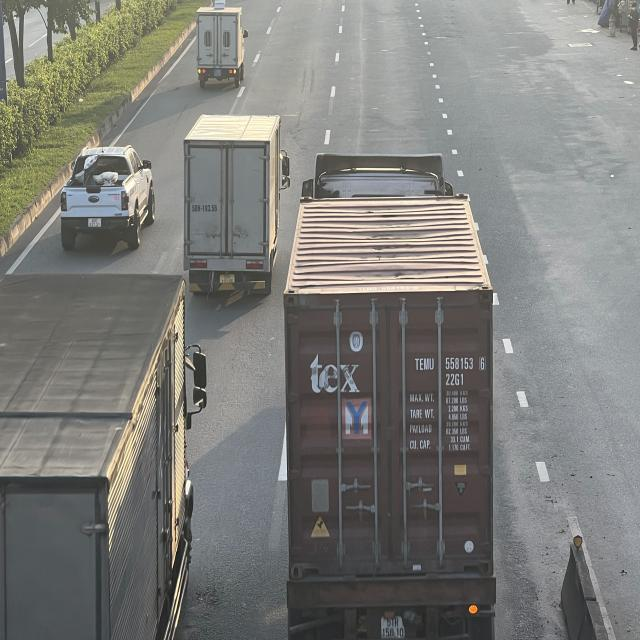car: (59, 143, 154, 251)
container: (285, 151, 499, 634)
truck: (0, 270, 207, 639), (180, 116, 288, 297), (197, 6, 248, 86)
